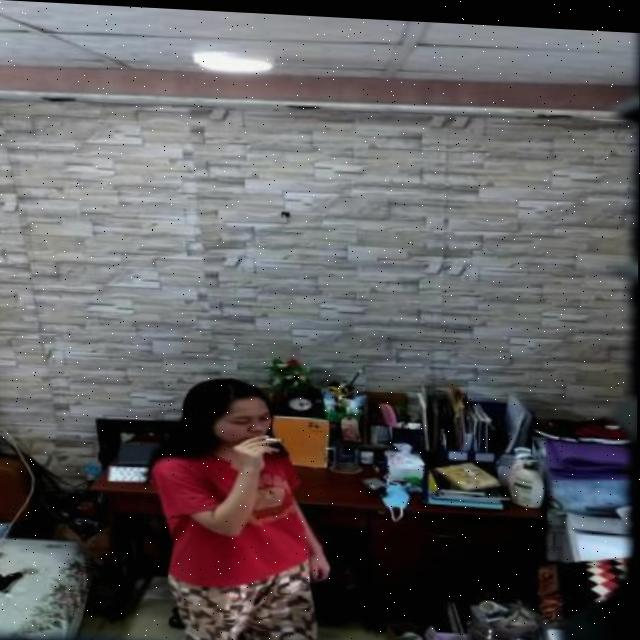cigarette: (265, 433, 285, 440)
